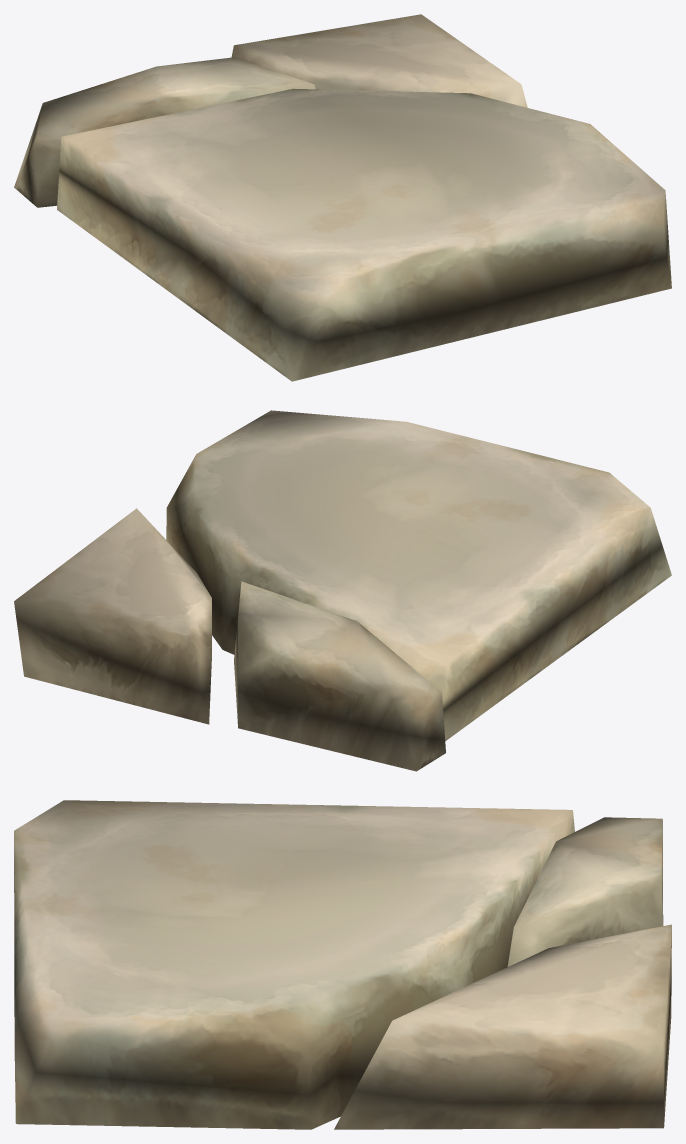
The model's file is mesh_StoneSlab_4.fbx.
The picture shows the model from 3 angles, top to bottom: view 1: azimuth 30°, elevation 25°; view 2: azimuth 150°, elevation 25°; view 3: azimuth 270°, elevation 25°; orthographic projection. The views are drawn at different scales.
Visible parts, largest first — view 1: StoneSlab_4_LOD0; view 2: StoneSlab_4_LOD0; view 3: StoneSlab_4_LOD0.
Boxes of the visible parts, box(x1,y1,x2,y2) form: StoneSlab_4_LOD0: box(14, 14, 671, 381); StoneSlab_4_LOD0: box(14, 410, 671, 771); StoneSlab_4_LOD0: box(14, 800, 671, 1129).
Size of what is drawn, in the model's own units: 2.17 by 0.4869 by 2.5.
1 material, 1 textured.
